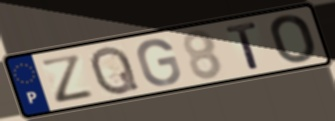8: (181, 28, 225, 82)
G: (135, 37, 184, 88)
O: (268, 12, 318, 65)
Q: (88, 44, 143, 97)
T: (223, 20, 262, 72)
Z: (38, 52, 96, 105)
